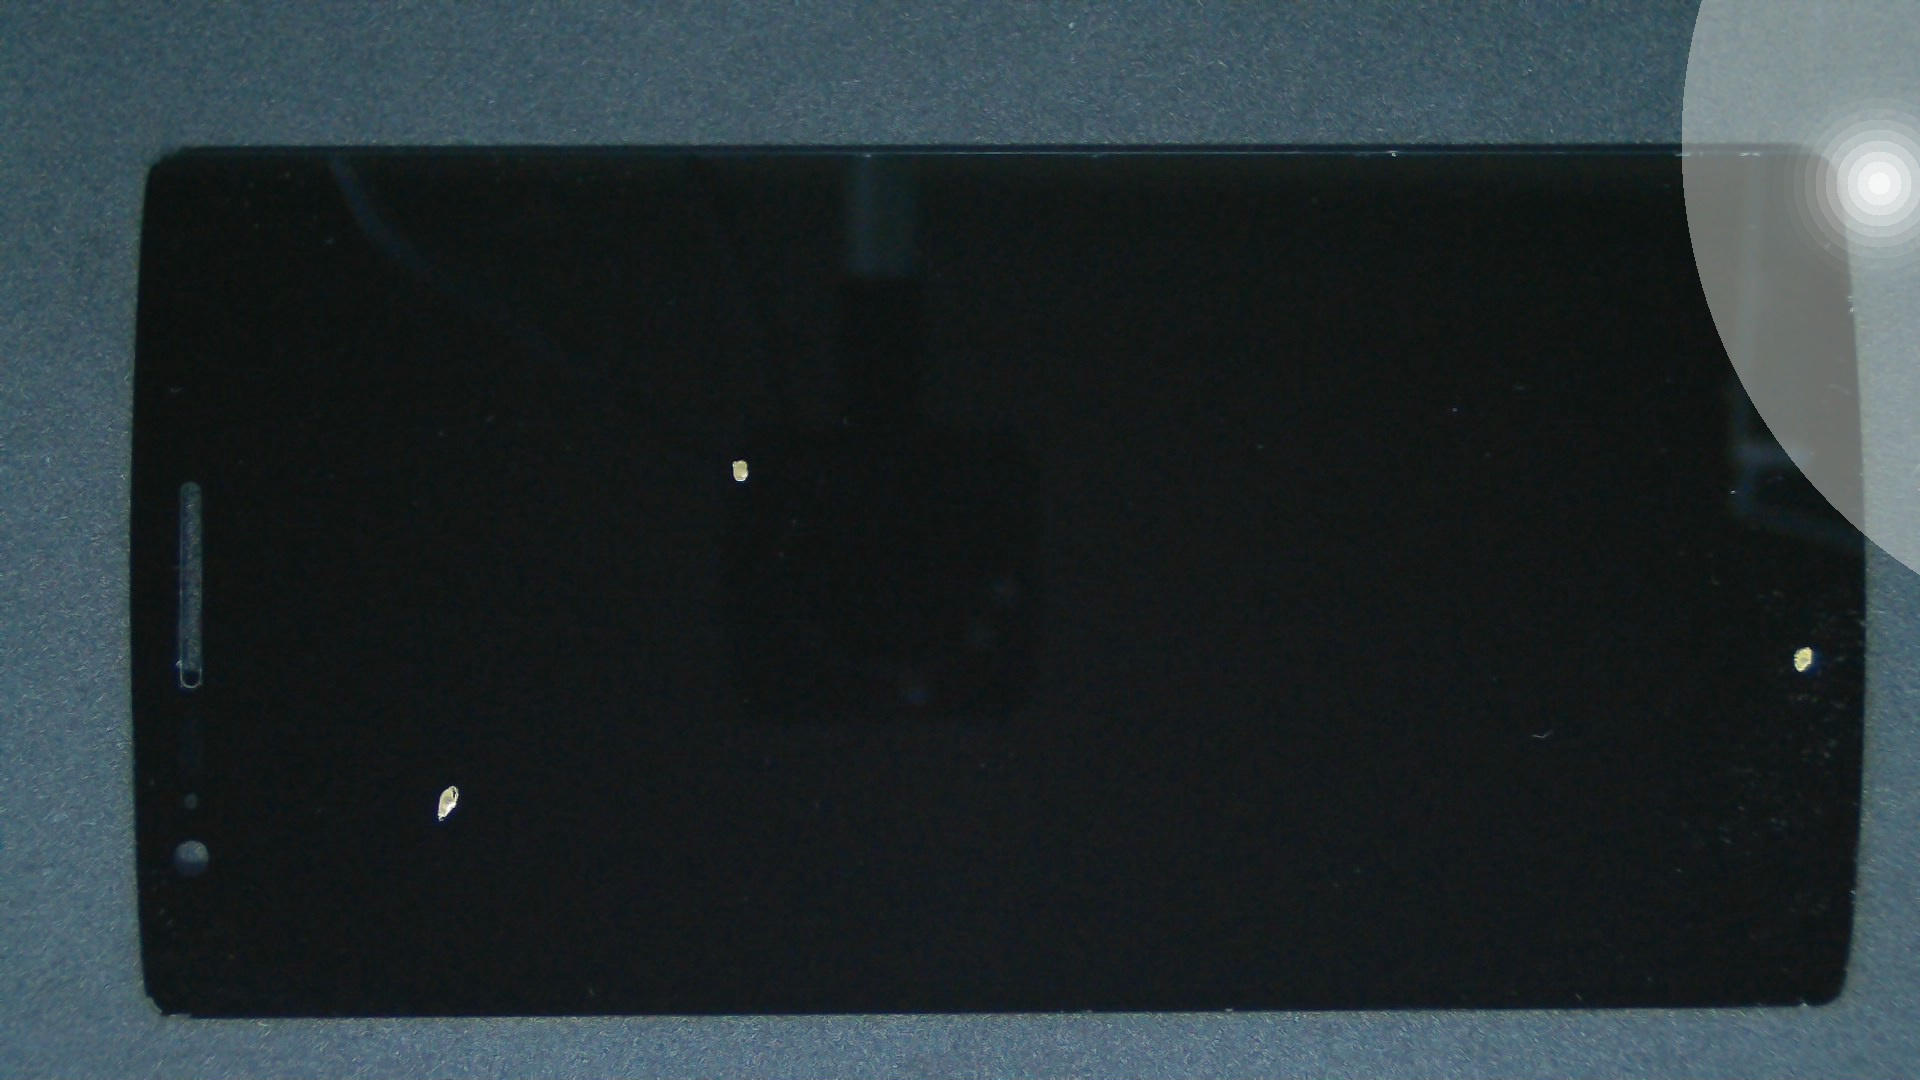oil: (903, 320, 1920, 965), (372, 228, 1114, 684), (227, 390, 676, 1080)
